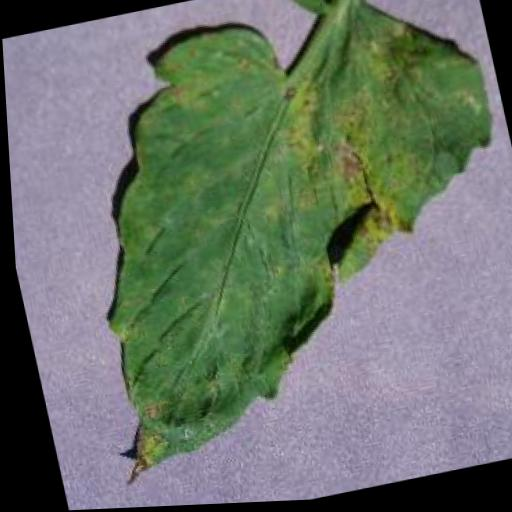Septoria: (37, 0, 512, 487)
